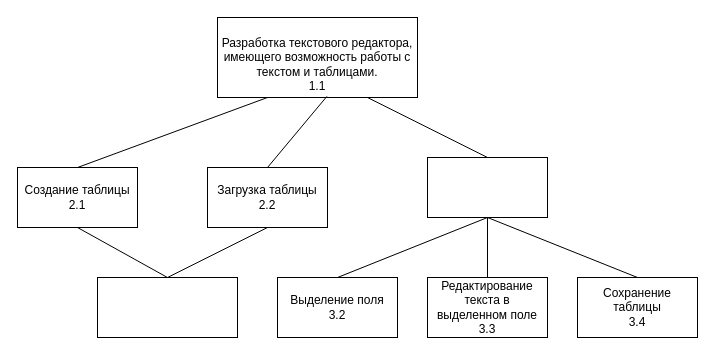
Image size: 715x355. Some labels were removed from this diagram. The centre of each missing label's shape, as x and y in pixels:
Проверка на существование таблицы с указанным именем 3.1: the point at 167,307
Работа с таблицей 2.3: the point at 487,187
